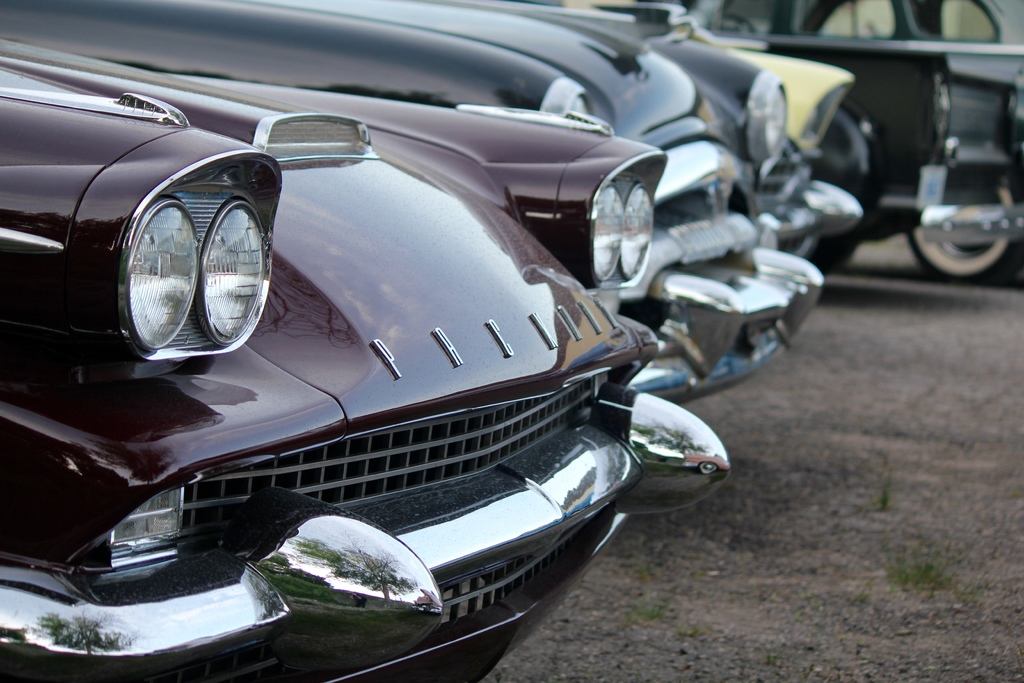Car: (0, 59, 728, 682), (0, 0, 1023, 401)
